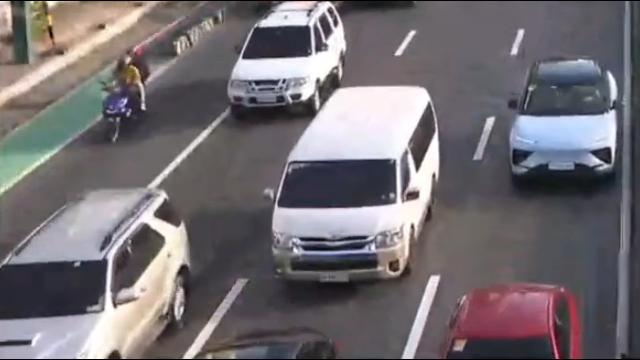car: (0, 185, 194, 360), (227, 0, 348, 119), (507, 55, 617, 184), (441, 283, 582, 360)
motorcycle: (99, 44, 150, 149)
van: (265, 86, 443, 291)
